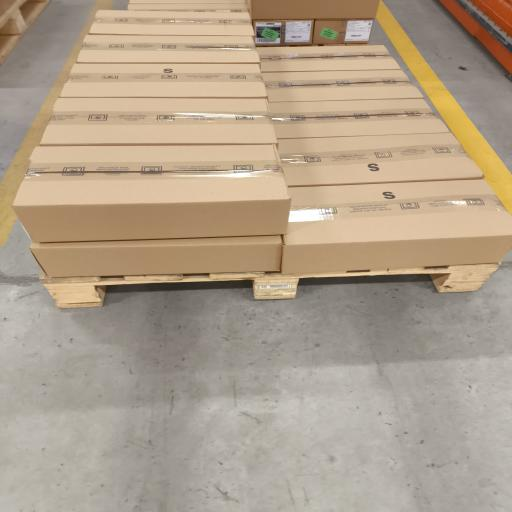pallet: (41, 264, 499, 308), (0, 0, 49, 63)
